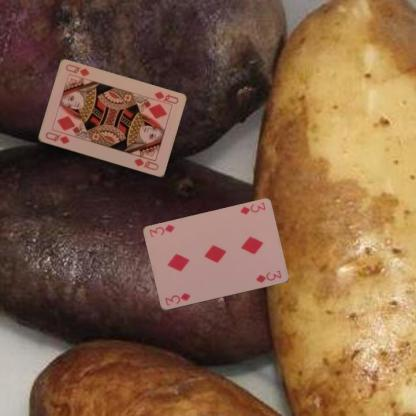3d: (162, 290, 192, 307), (237, 200, 266, 216)
Qd: (148, 89, 180, 107), (42, 130, 70, 146)
